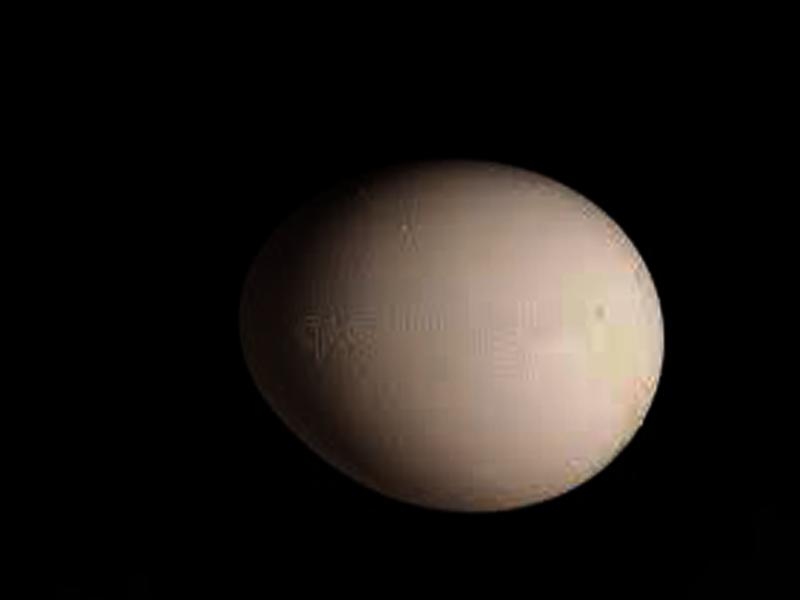Eggs: (236, 156, 672, 517)
